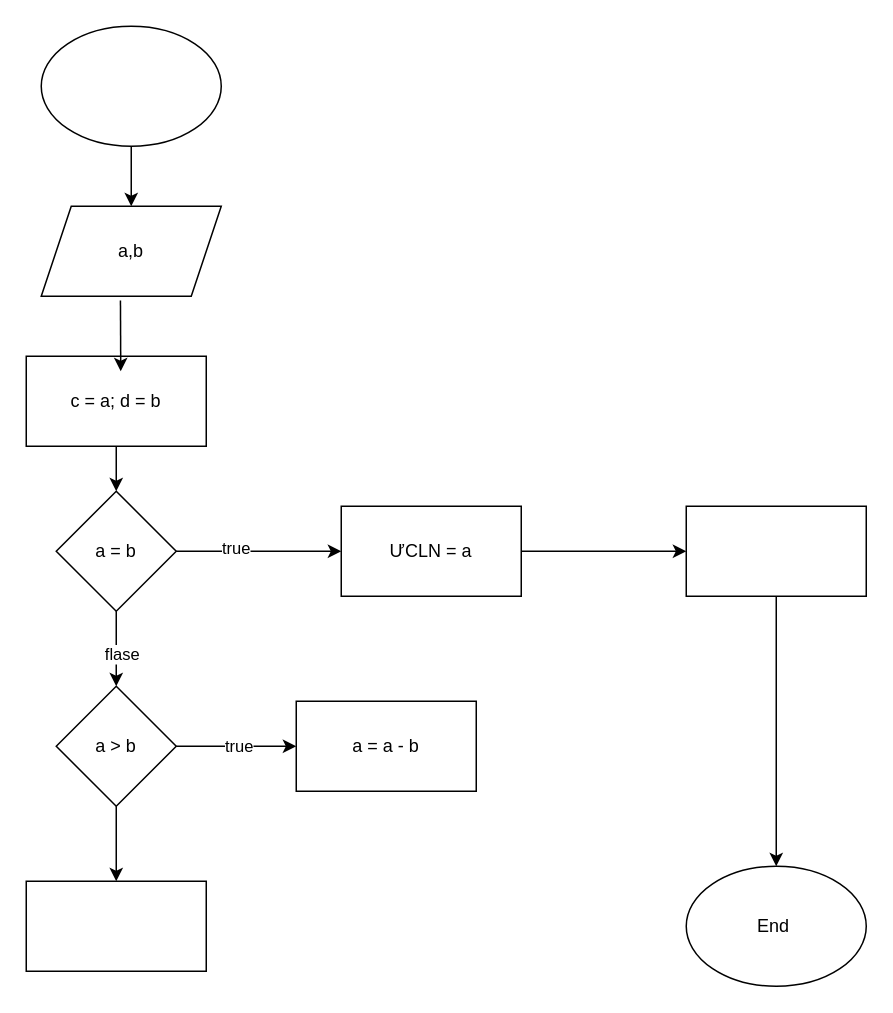
Image size: 893x1013. Some labels were removed from this diagram. The centre of each missing label's shape, as x and y in pixels:
"b = b - a" belongs at (115,925).
"BCNN = c.d/ƯCLN" belongs at (775,550).
"Start" belongs at (130,85).
